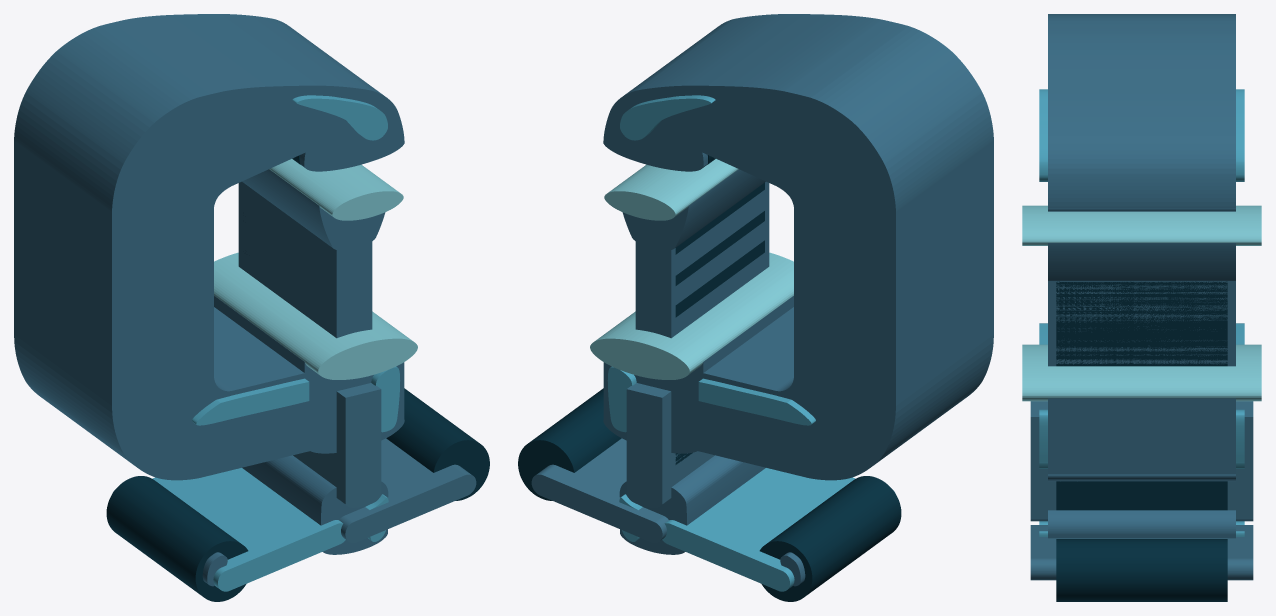
3 renders of one model, left to right at view 1: azimuth 30°, elevation 25°; view 2: azimuth 150°, elevation 25°; view 3: azimuth 270°, elevation 25°, orthographic. The views are drawn at different scales.
Visible parts, largest first — view 1: U+1F5DC_layer01_obj05, U+1F5DC_layer01_obj03, U+1F5DC_layer02_obj03, U+1F5DC_layer04_obj00, U+1F5DC_layer00_obj01, U+1F5DC_layer03_obj00, U+1F5DC_layer03_obj01, U+1F5DC_layer00_obj03, U+1F5DC_layer04_obj01, U+1F5DC_layer01_obj04, U+1F5DC_layer01_obj07, U+1F5DC_layer01_obj01 (+5 smaller); view 2: U+1F5DC_layer01_obj05, U+1F5DC_layer02_obj03, U+1F5DC_layer01_obj03, U+1F5DC_layer04_obj00, U+1F5DC_layer00_obj01, U+1F5DC_layer03_obj00, U+1F5DC_layer03_obj01, U+1F5DC_layer00_obj03, U+1F5DC_layer04_obj01, U+1F5DC_layer01_obj01, U+1F5DC_layer01_obj04, U+1F5DC_layer00_obj02 (+6 smaller); view 3: U+1F5DC_layer01_obj05, U+1F5DC_layer01_obj07, U+1F5DC_layer00_obj02, U+1F5DC_layer00_obj03, U+1F5DC_layer04_obj00, U+1F5DC_layer04_obj01, U+1F5DC_layer01_obj04, U+1F5DC_layer01_obj03, U+1F5DC_layer01_obj01, U+1F5DC_layer00_obj06, U+1F5DC_layer03_obj00, U+1F5DC_layer03_obj01 (+5 smaller).
Boxes of the visible parts, <box> form: U+1F5DC_layer01_obj05: <box>14,14,404,480</box>; U+1F5DC_layer01_obj03: <box>238,181,372,338</box>; U+1F5DC_layer02_obj03: <box>152,468,345,591</box>; U+1F5DC_layer04_obj00: <box>214,252,417,379</box>; U+1F5DC_layer00_obj01: <box>106,476,248,601</box>; U+1F5DC_layer03_obj00: <box>293,383,381,507</box>; U+1F5DC_layer03_obj01: <box>339,438,476,542</box>; U+1F5DC_layer00_obj03: <box>386,388,489,500</box>; U+1F5DC_layer04_obj01: <box>269,159,403,220</box>; U+1F5DC_layer01_obj04: <box>242,169,385,250</box>; U+1F5DC_layer01_obj07: <box>214,296,404,443</box>; U+1F5DC_layer01_obj01: <box>242,455,388,543</box>; U+1F5DC_layer01_obj05: <box>603,14,993,480</box>; U+1F5DC_layer02_obj03: <box>662,468,855,591</box>; U+1F5DC_layer01_obj03: <box>635,181,769,338</box>; U+1F5DC_layer04_obj00: <box>590,252,793,379</box>; U+1F5DC_layer00_obj01: <box>759,476,901,601</box>; U+1F5DC_layer03_obj00: <box>626,383,714,507</box>; U+1F5DC_layer03_obj01: <box>531,438,668,542</box>; U+1F5DC_layer00_obj03: <box>518,388,621,500</box>; U+1F5DC_layer04_obj01: <box>604,159,738,220</box>; U+1F5DC_layer01_obj01: <box>619,455,765,543</box>; U+1F5DC_layer01_obj04: <box>622,169,765,249</box>; U+1F5DC_layer00_obj02: <box>675,182,764,317</box>; U+1F5DC_layer01_obj05: <box>1048,14,1235,210</box>; U+1F5DC_layer01_obj07: <box>1048,398,1235,474</box>; U+1F5DC_layer00_obj02: <box>1056,281,1227,366</box>; U+1F5DC_layer00_obj03: <box>1056,539,1227,601</box>; U+1F5DC_layer04_obj00: <box>1022,344,1261,401</box>; U+1F5DC_layer04_obj01: <box>1022,205,1261,245</box>; U+1F5DC_layer01_obj04: <box>1048,243,1235,281</box>; U+1F5DC_layer01_obj03: <box>1048,281,1235,366</box>; U+1F5DC_layer01_obj01: <box>1048,510,1235,538</box>; U+1F5DC_layer00_obj06: <box>1056,481,1227,510</box>; U+1F5DC_layer03_obj00: <box>1030,401,1253,521</box>; U+1F5DC_layer03_obj01: <box>1030,525,1253,580</box>.
Bounding box in the file's own units: 0.2479 × 0.3187 × 0.14.
